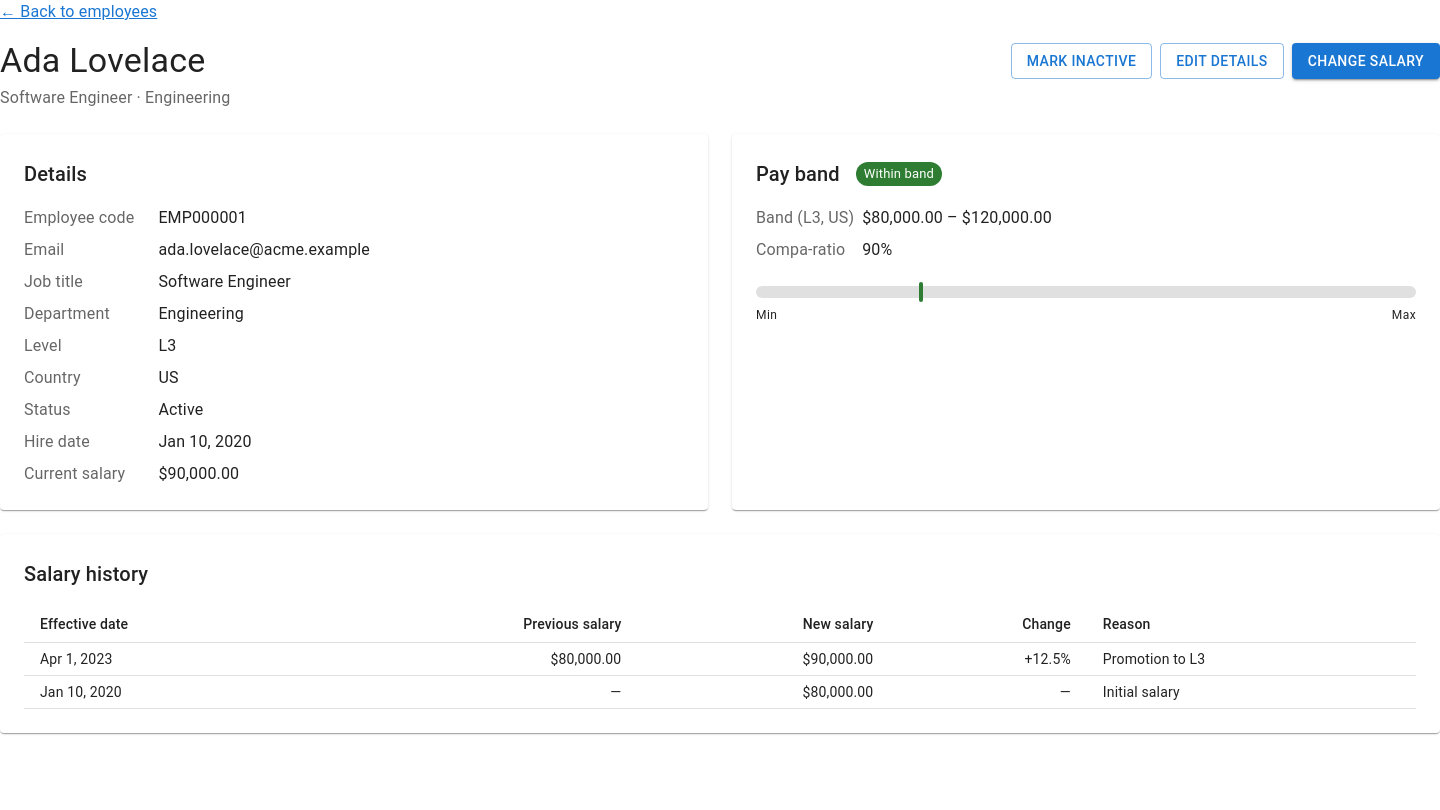
Edit details dialog › opens with the employee's current details and no salary or currency fields
Click the button "Edit details".
click(1222, 61)  # box 1160,43 -> 1284,79
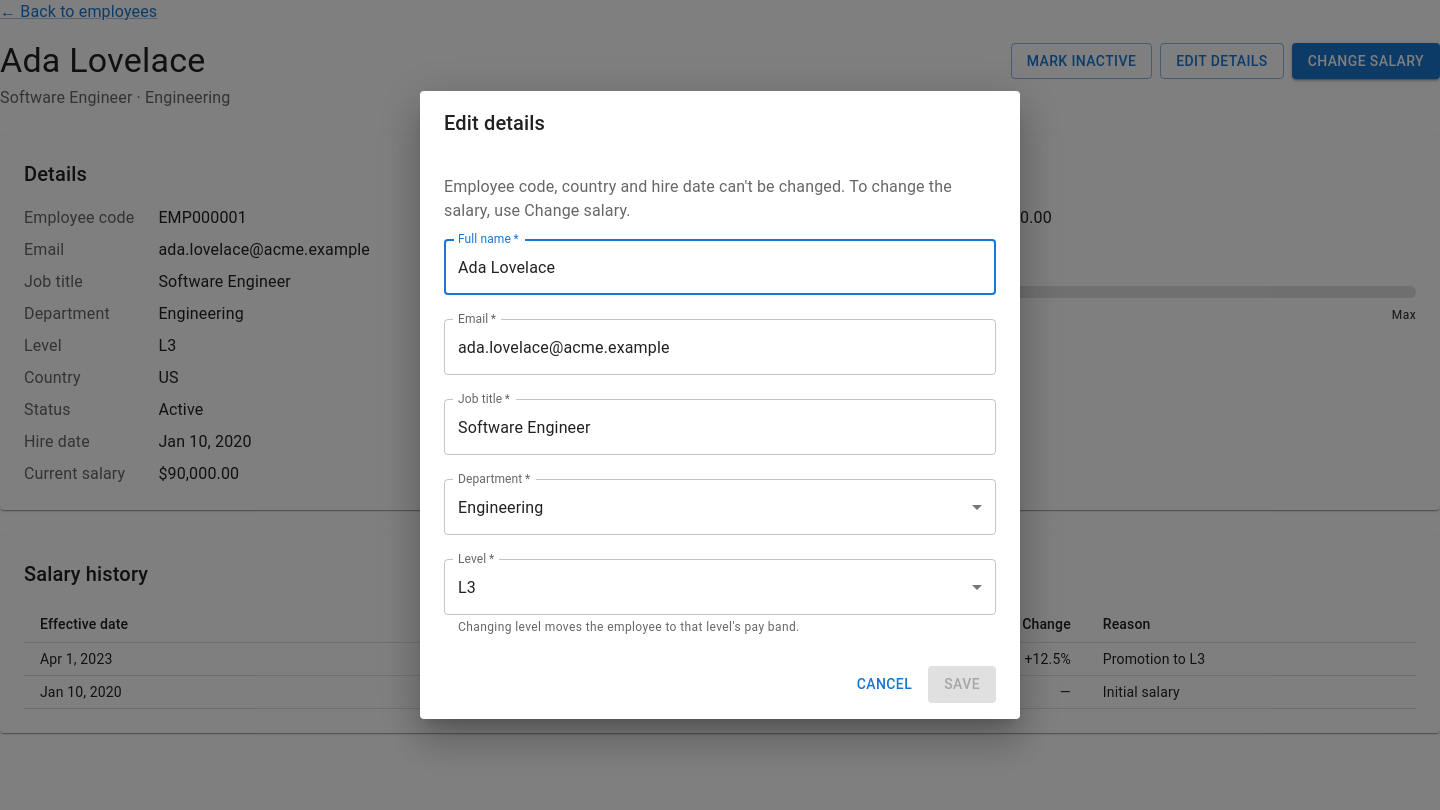
Check: the field labelled "Full name *" holds "Ada Lovelace", box 444,239 -> 996,295
Check: the field labelled "Email *" holds "ada.lovelace@acme.example", box 444,319 -> 996,375
Check: the field labelled "Job title *" holds "Software Engineer", box 444,399 -> 996,455
